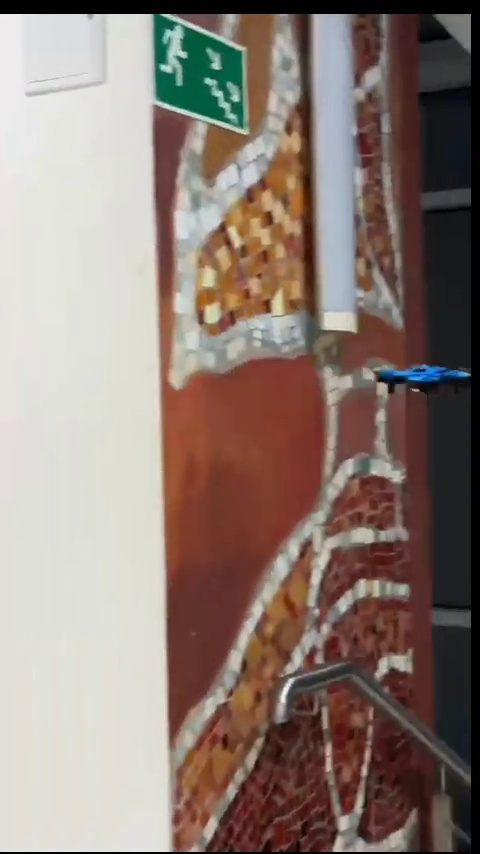drone: (379, 363, 472, 402)
